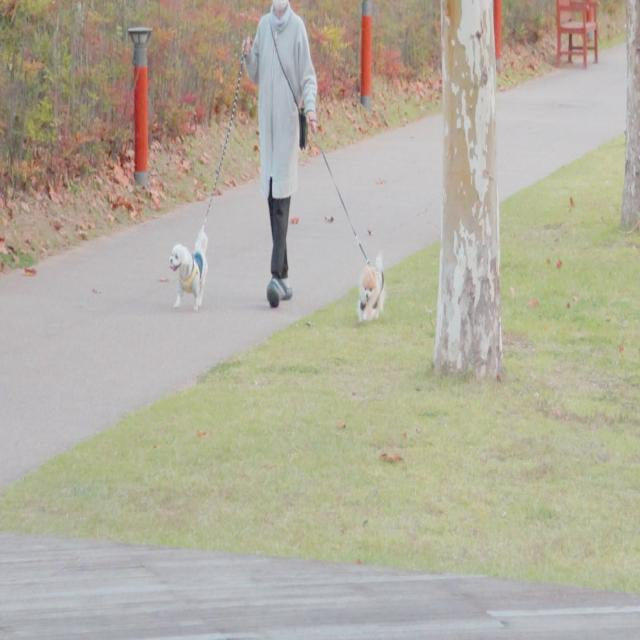Leashed_Dog: (168, 38, 272, 311), (284, 112, 385, 323)
